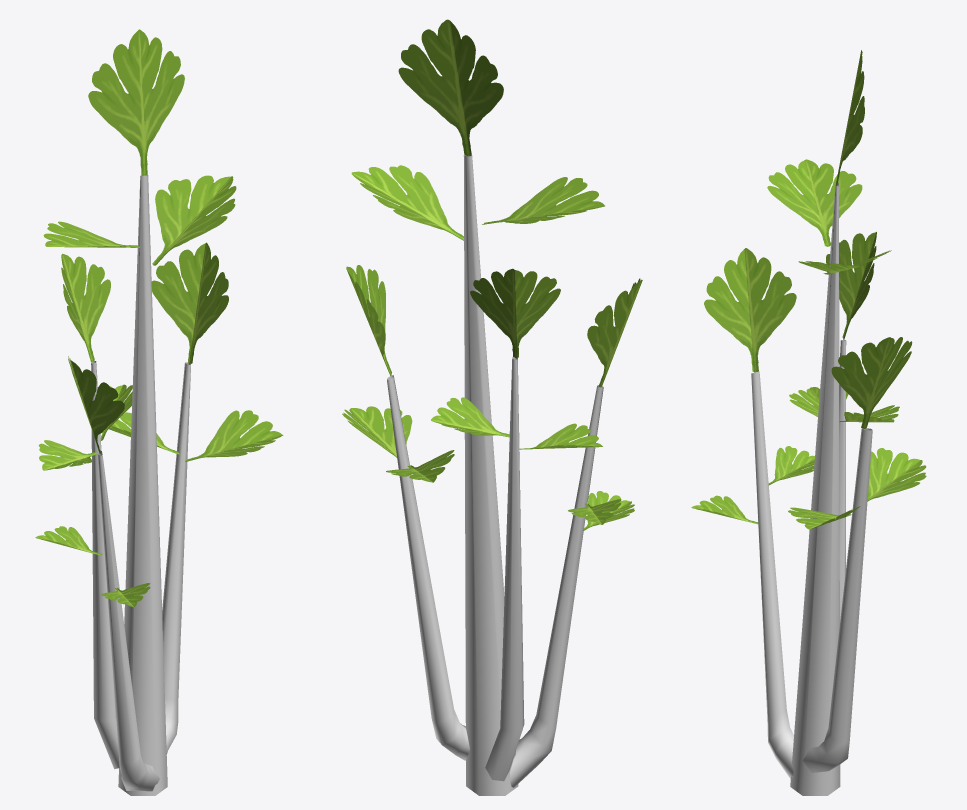
3 renders of one model, left to right at view 1: azimuth 30°, elevation 25°; view 2: azimuth 150°, elevation 25°; view 3: azimuth 270°, elevation 25°, orthographic. The views are drawn at different scales.
Visible parts, largest first — view 1: 芹菜02; view 2: 芹菜02; view 3: 芹菜02.
Boxes of the visible parts, box(x1,y1,x2,y2) form: 芹菜02: box(35, 29, 283, 795); 芹菜02: box(342, 19, 642, 795); 芹菜02: box(691, 50, 926, 795).
Size of the model in its own units: 19.47 by 49.91 by 16.21.
Materials: 2 (1 with a texture image).
